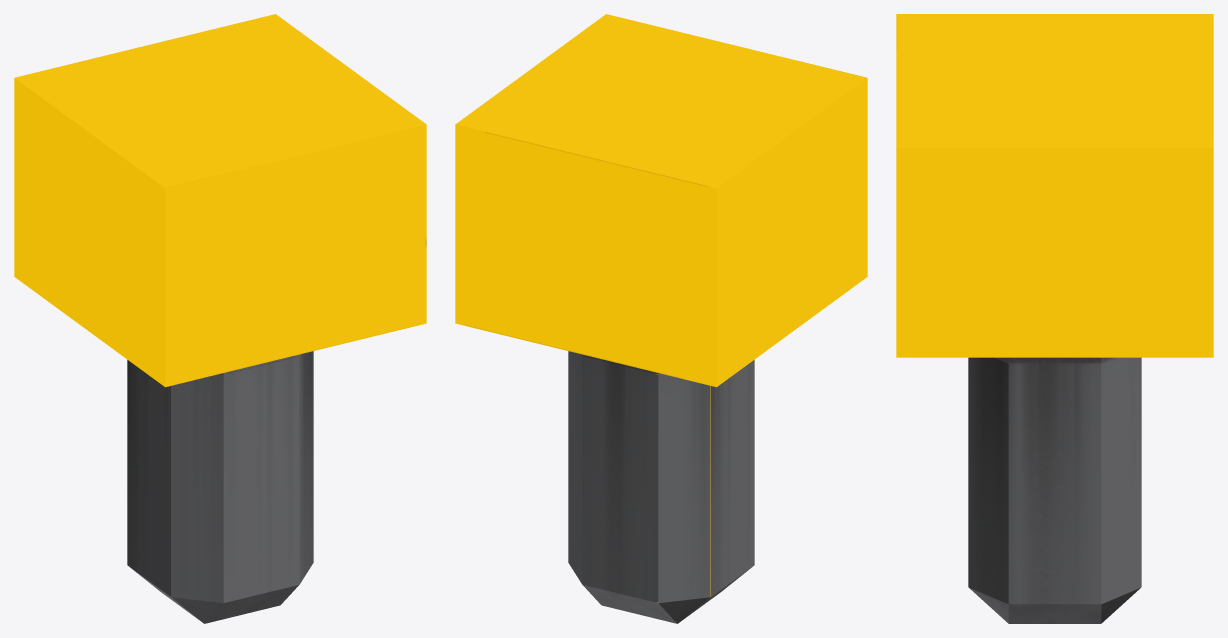
The model's file is nodexeus-set-gantry-lamp.glb.
3 views of the same model, side by side, from view 1: azimuth 30°, elevation 25°; view 2: azimuth 150°, elevation 25°; view 3: azimuth 270°, elevation 25° (orthographic). The views are drawn at different scales.
Visible parts, largest first — view 1: set-gantry-lamp; view 2: set-gantry-lamp; view 3: set-gantry-lamp.
Boxes of the visible parts, x1,y1,x2,y2 form: set-gantry-lamp: (14,14,426,623); set-gantry-lamp: (455,14,867,623); set-gantry-lamp: (896,14,1213,623).
Size of the model in its own units: 0.11 by 0.2 by 0.11.
Materials: 1 (1 with a texture image).
